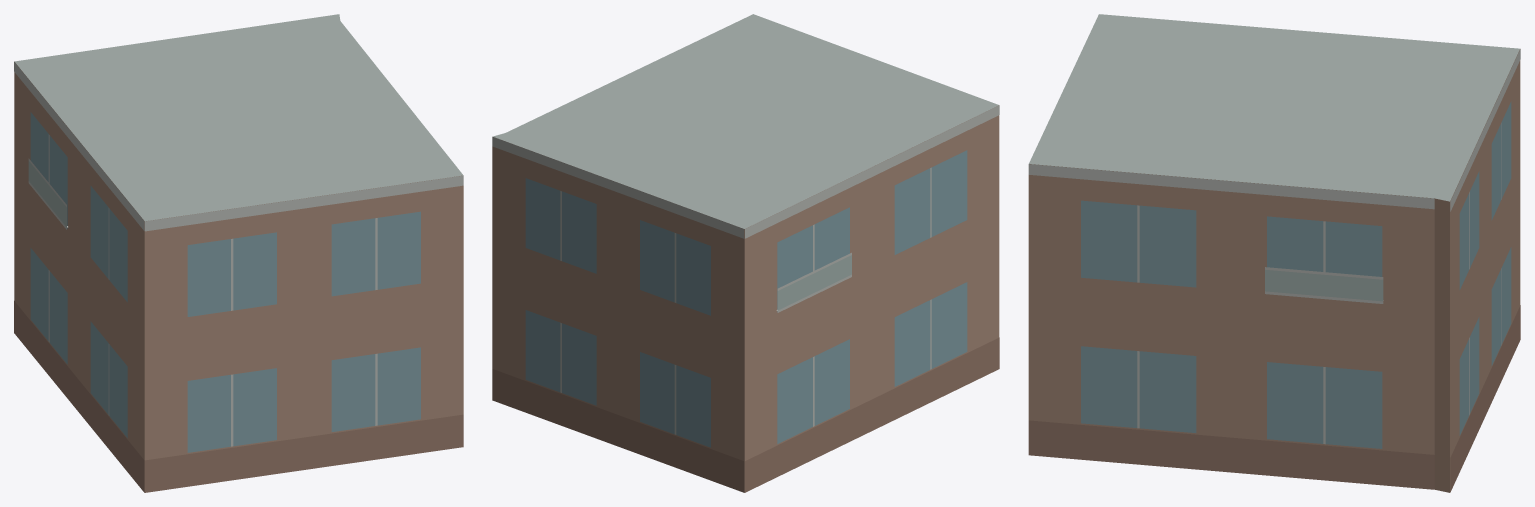
The model's file is survey-upis-32881952.glb.
The picture shows the model from 3 angles, left to right: view 1: azimuth 30°, elevation 25°; view 2: azimuth 150°, elevation 25°; view 3: azimuth 270°, elevation 25°; orthographic projection. The views are drawn at different scales.
Parts seen in each view (by area): view 1: survey-upis-32881952.tmp; view 2: survey-upis-32881952.tmp; view 3: survey-upis-32881952.tmp.
Part boxes in pixels (<box>): survey-upis-32881952.tmp: <box>14,14,463,492</box>; survey-upis-32881952.tmp: <box>492,14,999,492</box>; survey-upis-32881952.tmp: <box>1028,14,1520,492</box>.
Bounding box in the file's own units: 8.98 × 6.5 × 9.95.
